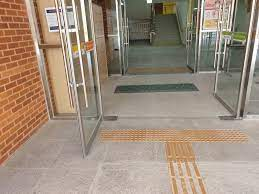guide_blocks: (100, 129, 249, 144), (167, 142, 206, 194)
